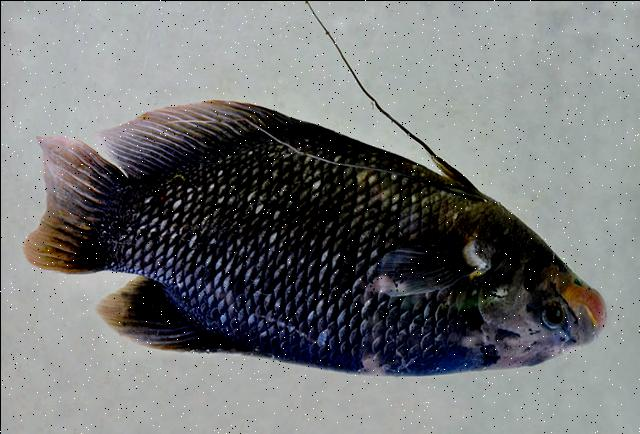Mulut: (554, 266, 628, 360)
Sirip Anal: (90, 93, 318, 194)
Sirip Dada: (354, 218, 498, 308)
Sirip Ekor: (15, 108, 136, 296)
Sirip Perut: (406, 138, 502, 212)
Sirip Punggung: (90, 253, 262, 377)
